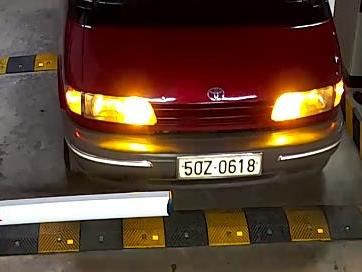number: (177, 153, 259, 177)
